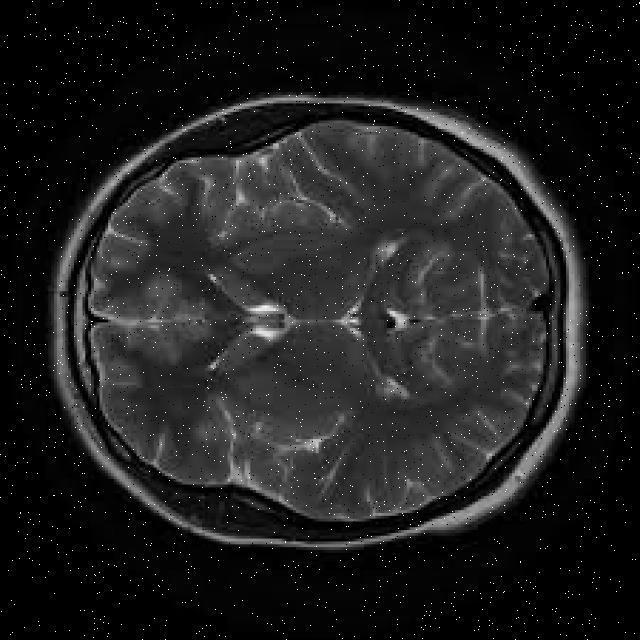No_Tumor: (54, 95, 584, 550)
